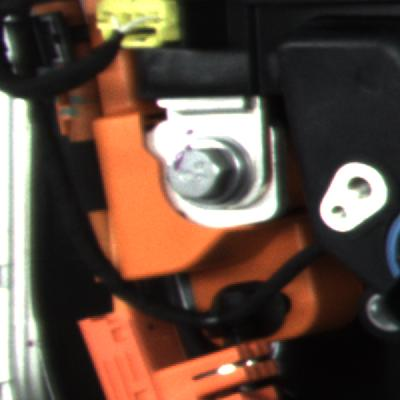nut_b: (165, 129, 266, 208)
